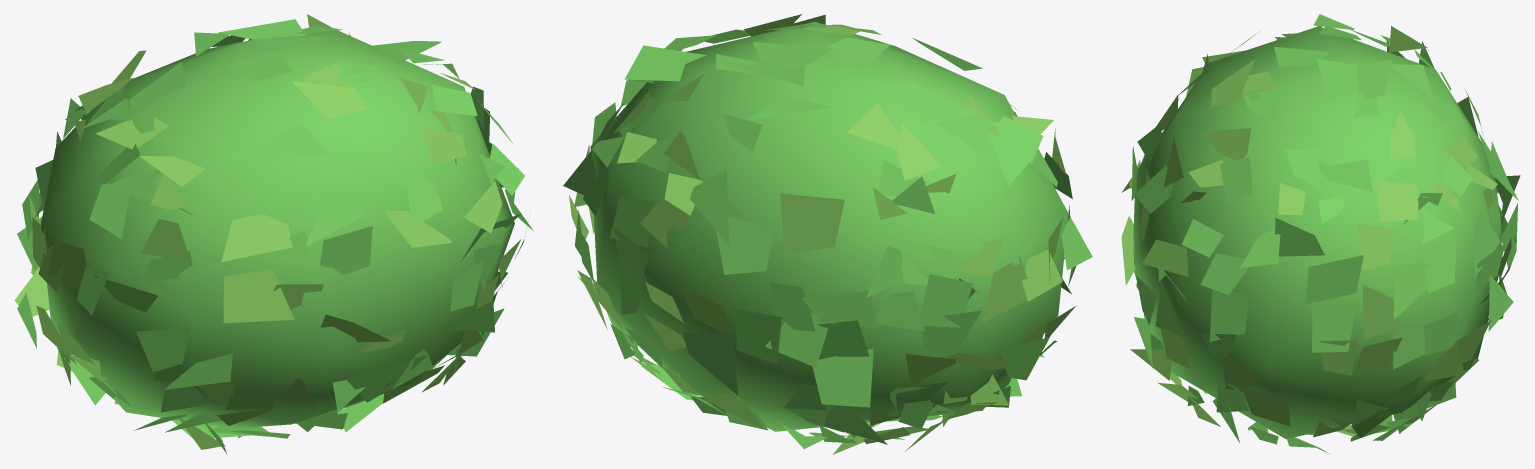
The model's file is Bush_Long.fbx.
3 views of the same model, side by side, from view 1: azimuth 30°, elevation 25°; view 2: azimuth 150°, elevation 25°; view 3: azimuth 270°, elevation 25° (orthographic). The views are drawn at different scales.
Visible parts, largest first — view 1: Bush.002; view 2: Bush.002; view 3: Bush.002.
Part boxes in pixels (<box>): Bush.002: <box>14,14,533,454</box>; Bush.002: <box>563,14,1092,454</box>; Bush.002: <box>1121,14,1520,453</box>.
Size of the model in its own units: 234 by 178 by 179.
